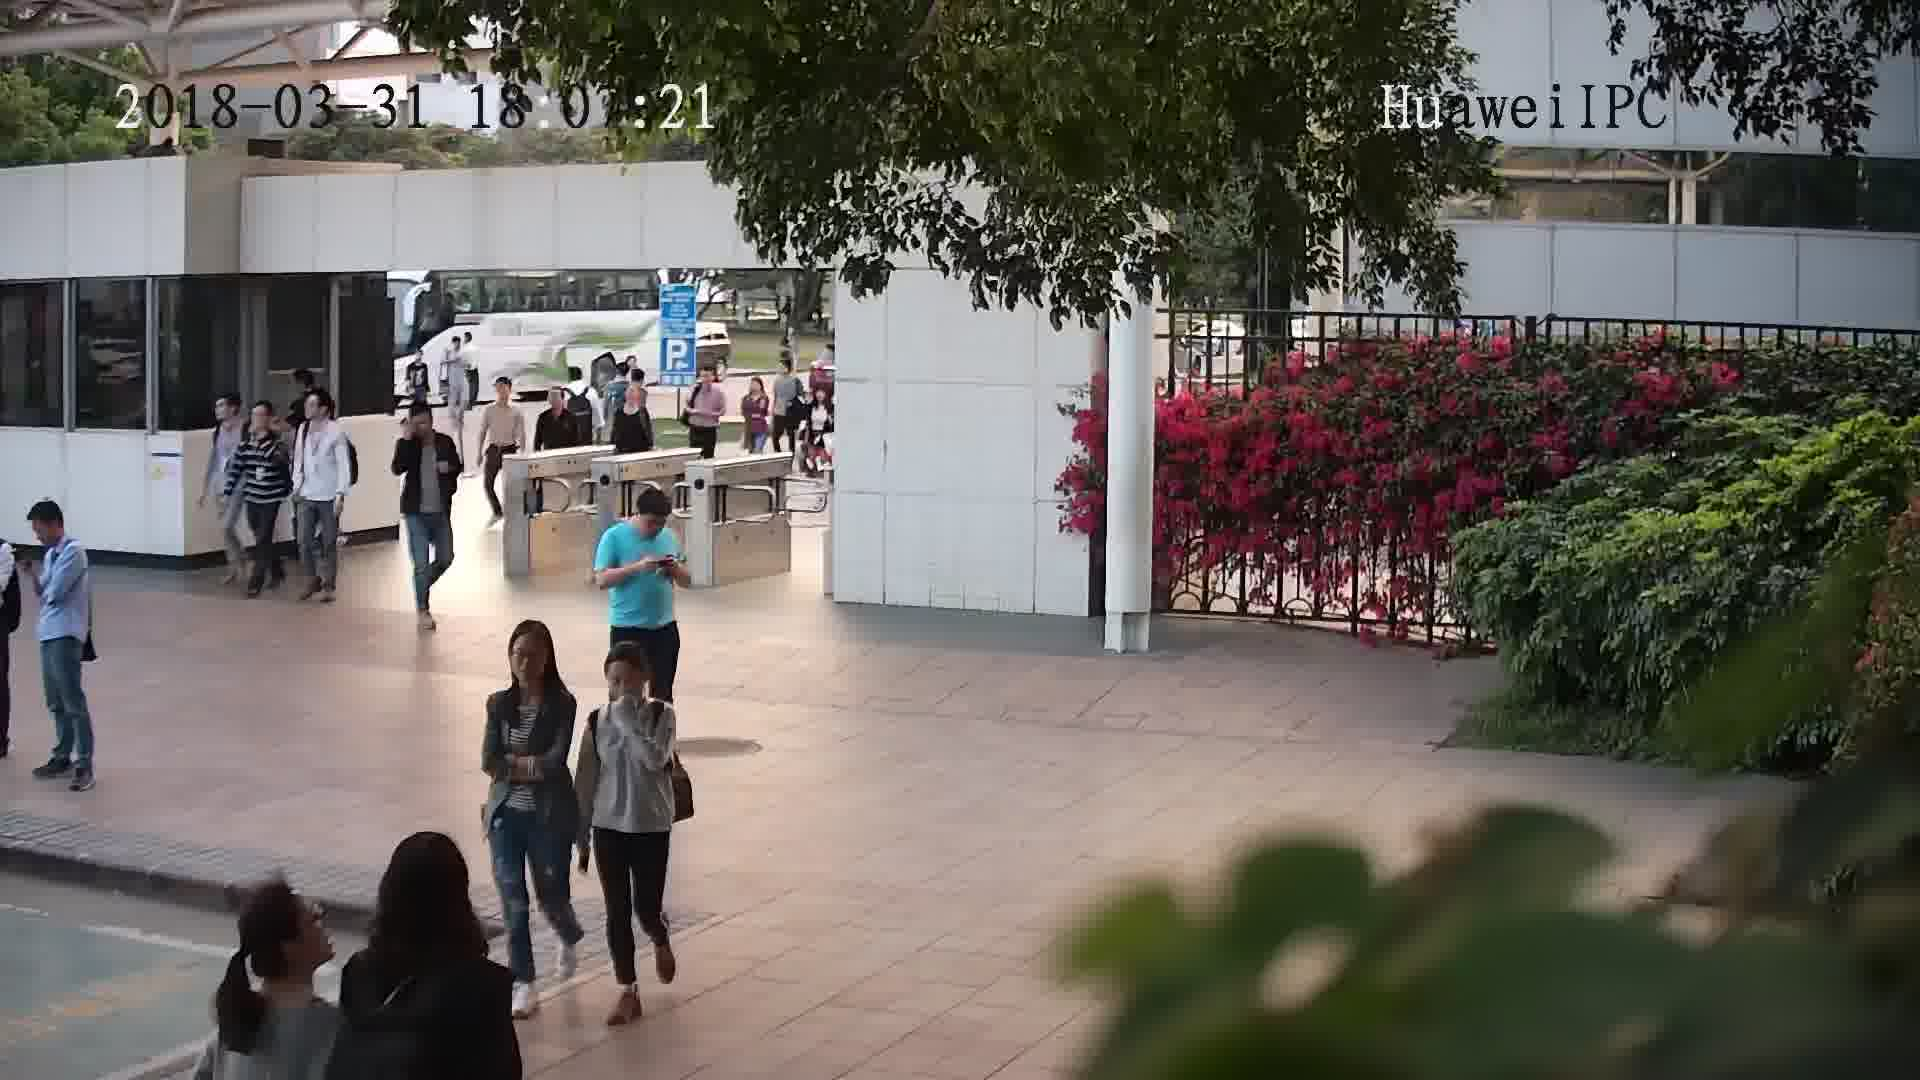face: (280, 891, 353, 964), (505, 637, 552, 684)
person: (335, 830, 514, 1012), (213, 881, 347, 1056), (486, 616, 578, 722), (585, 635, 681, 730), (24, 494, 92, 576), (602, 484, 683, 551), (394, 399, 454, 456), (294, 388, 348, 449), (236, 396, 286, 453), (480, 372, 526, 423), (205, 386, 248, 437), (536, 382, 581, 429), (613, 376, 655, 423), (558, 361, 602, 402), (684, 361, 731, 398), (765, 354, 803, 390), (805, 383, 838, 419), (603, 356, 634, 394), (740, 375, 771, 408), (403, 342, 431, 374), (439, 335, 467, 366)
